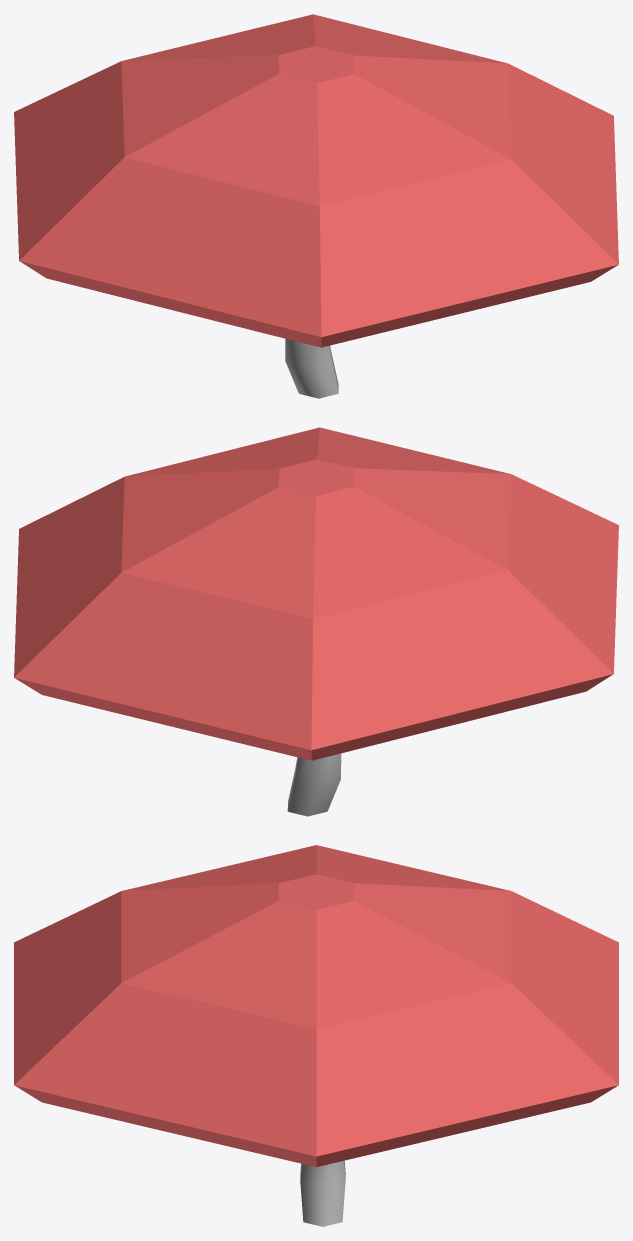
Rendered from Hongo_3.fbx.
The picture shows the model from 3 angles, top to bottom: view 1: azimuth 30°, elevation 25°; view 2: azimuth 150°, elevation 25°; view 3: azimuth 270°, elevation 25°; orthographic projection.
Visible parts, largest first — view 1: Hongo_3; view 2: Hongo_3; view 3: Hongo_3.
Boxes of the visible parts, bbox=[...] form: Hongo_3: bbox=[14, 14, 618, 398]; Hongo_3: bbox=[14, 427, 618, 816]; Hongo_3: bbox=[14, 845, 618, 1226].
Bounding box in the file's own units: 61.69 × 32.52 × 55.25.
